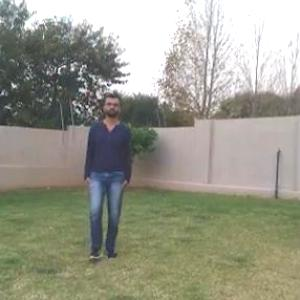follow: (85, 89, 127, 257)
